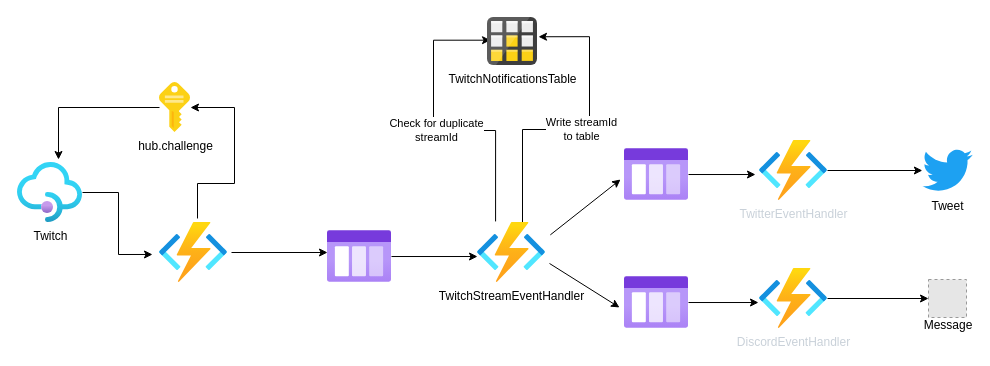
This 990x366 diagram has some shape labels left out. Grey dashed boxes stand in for pictures. Here are the shapes that lost their labels. From the top down, the centre of each, then its label:
(x=656, y=174): TwitterNotification
(x=193, y=252): TwitchWebhookIngestion
(x=359, y=256): TwitchStreamActivity
(x=656, y=302): DiscordNotification
